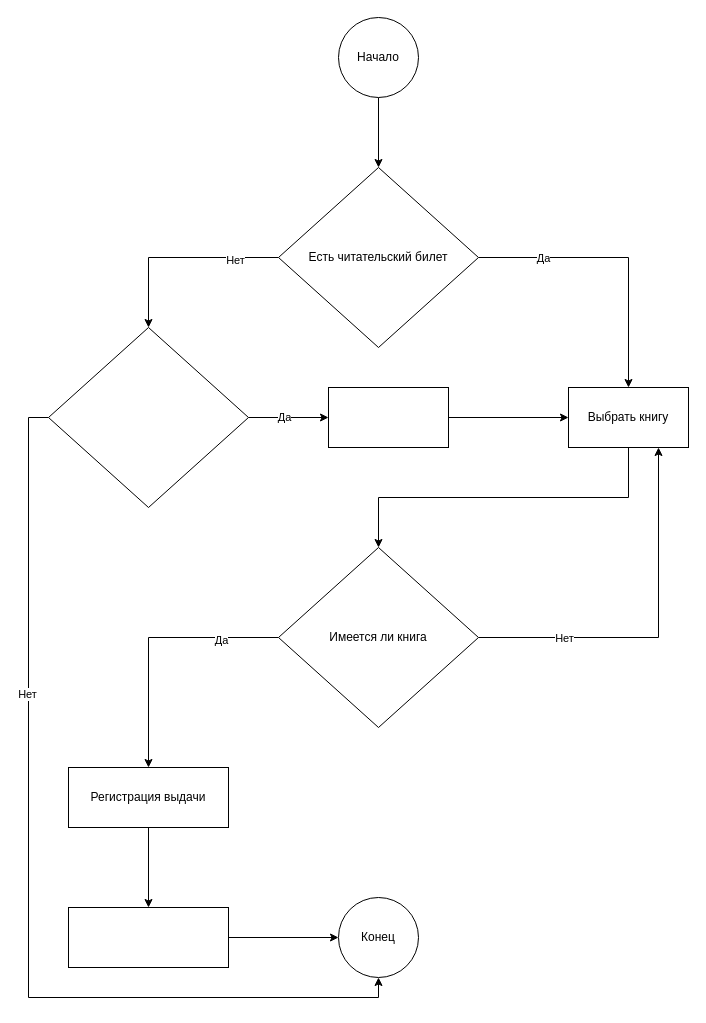
Some shapes in this 706 by 1023 pixel diagram are drawn without their labels. The box of each missing label's shape, as (x1, y1, x2, y2) in pixels:
Оформление: (328, 386, 448, 448)
Хотить ли вы оформить: (48, 326, 248, 508)
Читатель получает книгу: (68, 906, 228, 968)
